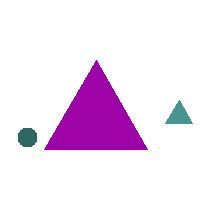circle: (18, 128, 36, 146)
triangle: (44, 60, 147, 149), (165, 100, 192, 123)
